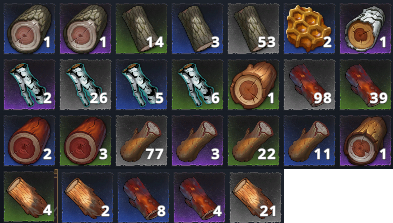ash heartwood: (61, 4, 111, 53), (6, 5, 55, 54)
ash log: (116, 3, 167, 54), (173, 5, 222, 53), (230, 6, 277, 53)
birch heartwood: (62, 61, 110, 109), (118, 61, 166, 109), (173, 60, 221, 108), (343, 5, 389, 52), (6, 61, 52, 108)
oak heartwood: (231, 61, 277, 108)
oak log: (63, 173, 114, 221), (231, 174, 280, 222), (6, 173, 53, 219)
spruce heartwood: (342, 118, 389, 164)
spruce log: (173, 116, 222, 165), (285, 116, 334, 165), (229, 115, 277, 164), (118, 116, 165, 165)
yew heartwood: (62, 116, 110, 164), (5, 117, 53, 164)
yew log: (286, 59, 334, 109), (174, 173, 224, 221), (119, 173, 167, 221), (341, 61, 388, 108)
